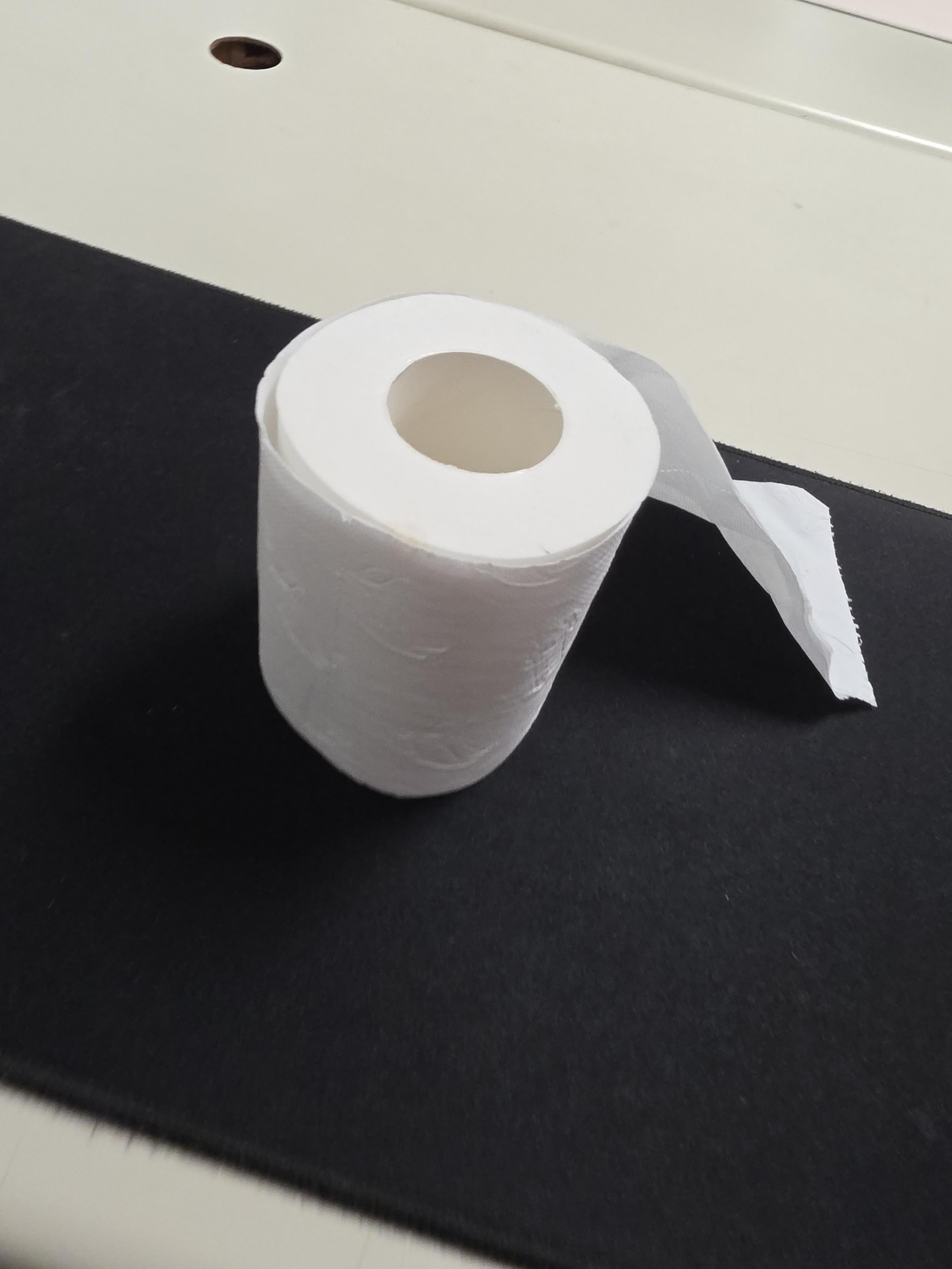tissue: (254, 291, 879, 800)
